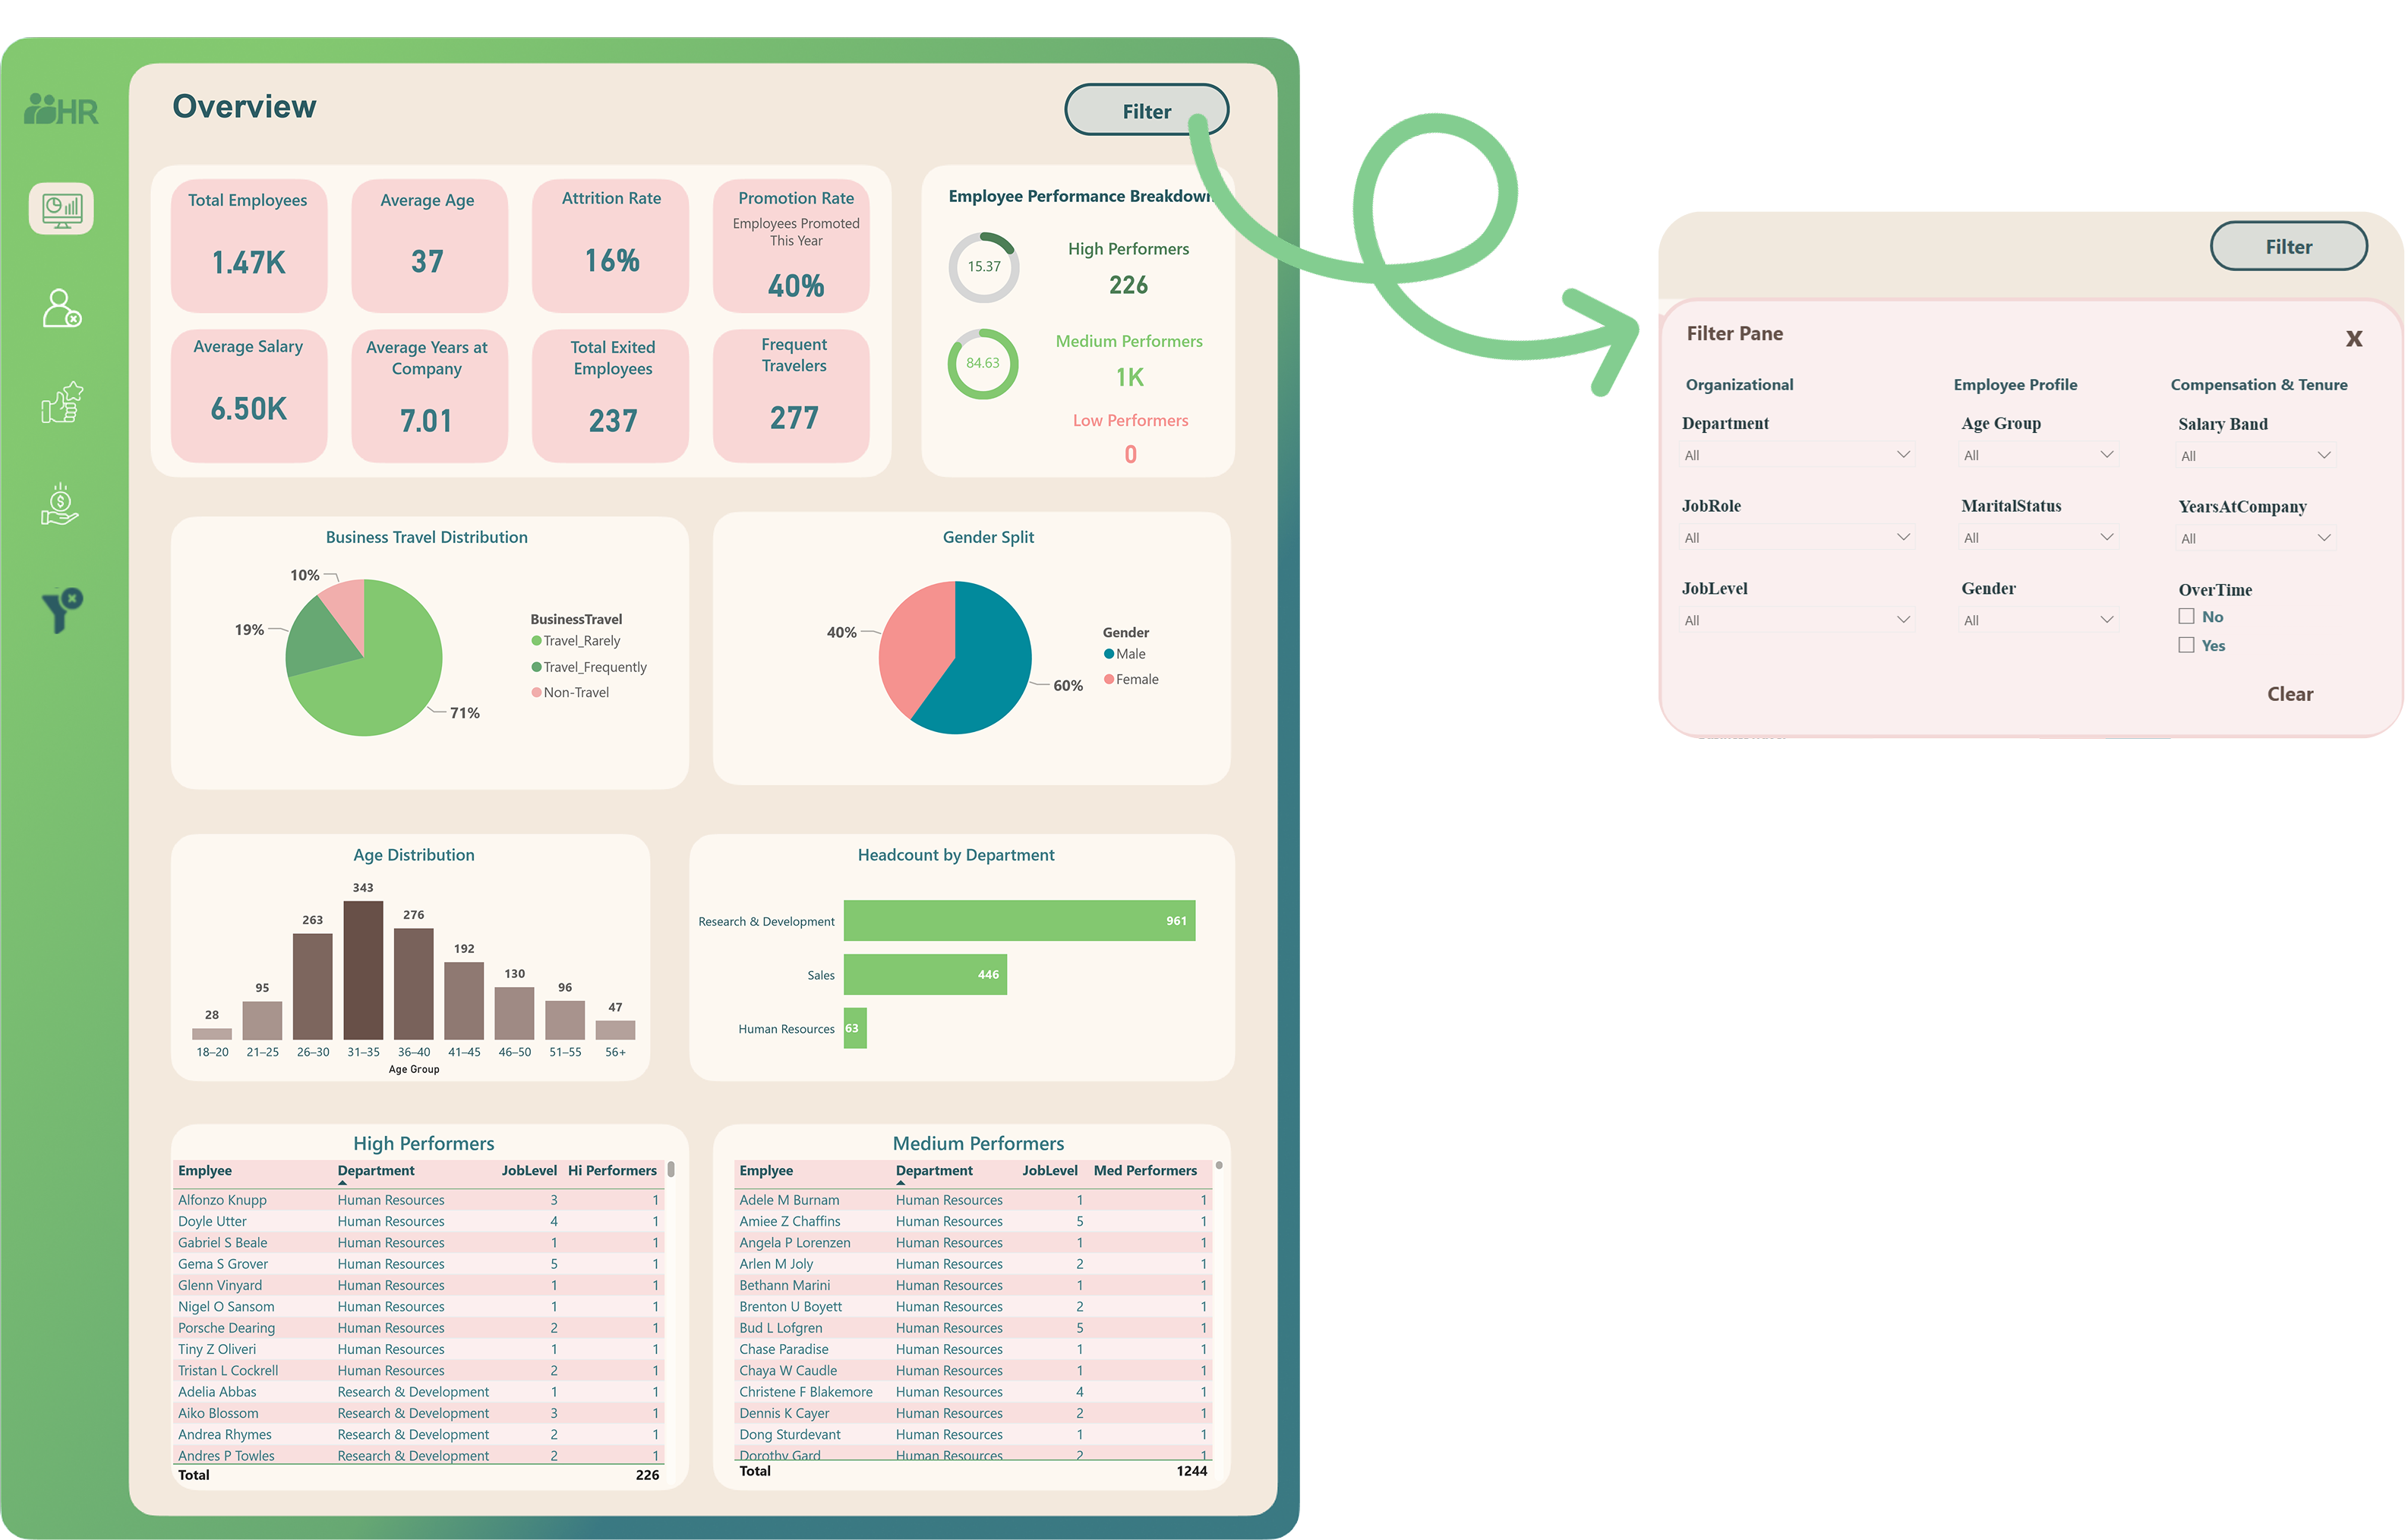

What the dashboard file says about the page in this screenshot:
{"tool":"powerbi","page":{"name":"Page 1","canvas":[1280,1480],"ordinal":0},"visuals":[{"type":"textbox","box":[163.6,44.5,160.9,65.5],"z":0},{"type":"cardVisual","title":"Total Employees","fields":{"Data":["Count(Employees_Main.Employee_ID)"]},"box":[172.9,148.6,141.4,114.3],"z":1000},{"type":"cardVisual","title":"Attrition Rate","fields":{"Data":["Employees_Main.Attrition Rate %"]},"box":[531.4,147.1,141.4,114.3],"z":2000},{"type":"cardVisual","title":"Average Age","fields":{"Data":["Avg(Employees_Main.Age)"]},"box":[351.4,148.6,138.6,112.9],"z":3000},{"type":"cardVisual","title":"Average Salary","fields":{"Data":["Avg(Employees_Main.MonthlyIncome)"]},"box":[174,293.2,139.7,115.1],"z":4000},{"type":"cardVisual","title":"Average Years at Company","fields":{"Data":["Avg(Employees_Main.YearsAtCompany)"]},"box":[350,294.3,140,115.7],"z":5000},{"type":"barChart","title":"Headcount by Department","fields":{"Category":["Employees_Main.Department"],"Y":["CountNonNull(Employees_Main.Employee_ID)"]},"box":[672.9,794.3,537.1,230],"z":6000},{"type":"pieChart","title":"Gender Split","fields":{"Y":["CountNonNull(Employees_Main.Employee_ID)"],"Category":["Employees_Main.Gender"]},"box":[790,481.4,367.1,237.1],"z":7000},{"type":"columnChart","title":"Age Distribution ","fields":{"Y":["CountNonNull(Employees_Main.Employee_ID)"],"Category":["Employees_Main.Age Group"]},"box":[164.3,794.3,487.1,232.9],"z":8000},{"type":"cardVisual","title":"Total Exited Employees","fields":{"Data":["Employees_Main.Exited Employees"]},"box":[532.9,294.3,141.4,115.7],"z":9000},{"type":"pageNavigator","box":[15.7,110,91.4,421.4],"z":10000},{"type":"cardVisual","title":"High Performers","fields":{"Data":["Employees_Main.High Performers"]},"box":[1042.2,196.7,138.9,64.4],"z":11000},{"type":"tableEx","title":"High Performers","fields":{"Values":["HR employee data.Emplyee name","Employees_Main.Department","Employees_Main.JobLevel","Employees_Main.High Performers"]},"box":[164.3,1075.7,505.7,355.7],"z":12000},{"type":"cardVisual","title":"Medium Performers","fields":{"Data":["Employees_Main.Low Performers"]},"box":[1031.7,288.3,160,63.3],"z":13000},{"type":"tableEx","title":"Medium Performers","fields":{"Values":["HR employee data.Emplyee name","Employees_Main.Department","Employees_Main.JobLevel","Employees_Main.Low Performers"]},"box":[717.1,1075.7,492.9,351.4],"z":14000},{"type":"cardVisual","title":"Promotion Rate ","fields":{"Data":["Employees_Main.Promotion Rate %"]},"box":[711.4,147.1,145.7,124.3],"z":15000},{"type":"pieChart","title":"Business Travel Distribution","fields":{"Category":["Employees_Main.BusinessTravel"],"Y":["CountNonNull(Employees_Main.Employee_ID)"]},"box":[188.6,481.4,462.9,237.1],"z":16000},{"type":"cardVisual","title":"Low Performers","fields":{"Data":["Employees_Main.Low Performers"]},"box":[1033.3,365.6,161.1,60],"z":17000},{"type":"circleCard68ECC0CB90BE47B3962072B48765978B","fields":{"measure":["Employees_Main.High Performers %"]},"box":[928.9,186.7,87.8,84.4],"z":18000},{"type":"circleCard68ECC0CB90BE47B3962072B48765978B","fields":{"measure":["Employees_Main.Medium Performers %"]},"box":[928.3,281.7,88.3,83.3],"z":19000},{"type":"textbox","box":[928.9,140,281.1,46.7],"z":20000},{"type":"cardVisual","title":"Frequent Travelers","fields":{"Data":["Employees_Main.TRAVEL"]},"box":[711.4,291.4,141.4,115.7],"z":21000},{"type":"actionButton","title":"filterbtn","box":[1047.9,45.1,163.4,52.1],"z":23000},{"type":"actionButton","box":[34.4,536.2,54,56.4],"z":24000}]}

Visuals, with their boxes on the page's 1280x1480 design canvas (x1, y1, x2, y2). These are canvas units, not pixel positions in the 2405x1540 screenshot, which may show the page scaled, cropped or inside an application window:
textbox: x1=164 y1=44 x2=324 y2=110
"Total Employees" cardVisual: x1=173 y1=149 x2=314 y2=263
"Attrition Rate" cardVisual: x1=531 y1=147 x2=673 y2=261
"Average Age" cardVisual: x1=351 y1=149 x2=490 y2=262
"Average Salary" cardVisual: x1=174 y1=293 x2=314 y2=408
"Average Years at Company" cardVisual: x1=350 y1=294 x2=490 y2=410
"Headcount by Department" barChart: x1=673 y1=794 x2=1210 y2=1024
"Gender Split" pieChart: x1=790 y1=481 x2=1157 y2=718
"Age Distribution " columnChart: x1=164 y1=794 x2=651 y2=1027
"Total Exited Employees" cardVisual: x1=533 y1=294 x2=674 y2=410
pageNavigator: x1=16 y1=110 x2=107 y2=531
"High Performers" cardVisual: x1=1042 y1=197 x2=1181 y2=261
"High Performers" tableEx: x1=164 y1=1076 x2=670 y2=1431
"Medium Performers" cardVisual: x1=1032 y1=288 x2=1192 y2=352
"Medium Performers" tableEx: x1=717 y1=1076 x2=1210 y2=1427
"Promotion Rate " cardVisual: x1=711 y1=147 x2=857 y2=271
"Business Travel Distribution" pieChart: x1=189 y1=481 x2=652 y2=718
"Low Performers" cardVisual: x1=1033 y1=366 x2=1194 y2=426
circleCard68ECC0CB90BE47B3962072B48765978B - Employees_Main.High Performers %: x1=929 y1=187 x2=1017 y2=271
circleCard68ECC0CB90BE47B3962072B48765978B - Employees_Main.Medium Performers %: x1=928 y1=282 x2=1017 y2=365
textbox: x1=929 y1=140 x2=1210 y2=187
"Frequent Travelers" cardVisual: x1=711 y1=291 x2=853 y2=407
"filterbtn" actionButton: x1=1048 y1=45 x2=1211 y2=97
actionButton: x1=34 y1=536 x2=88 y2=593
